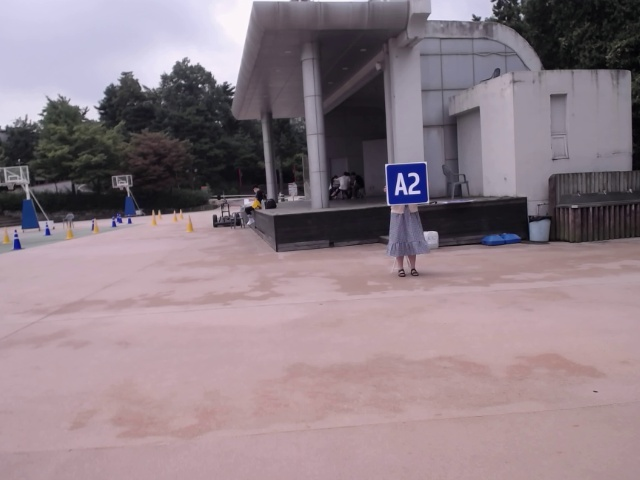delivery_a2: (385, 162, 429, 205)
